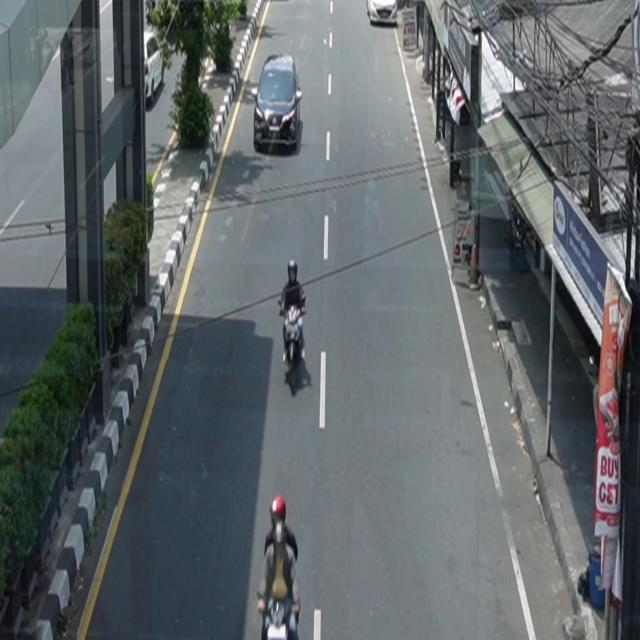car: (252, 54, 303, 153), (367, 1, 398, 26)
